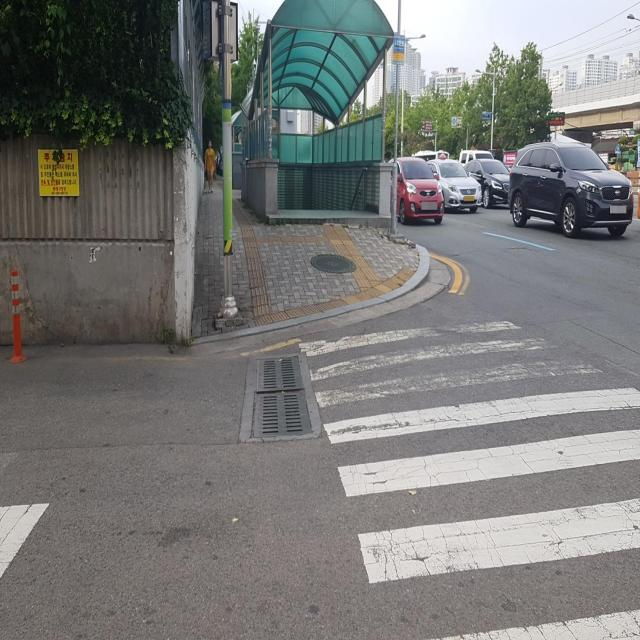횡단보도: (297, 316, 640, 640)
